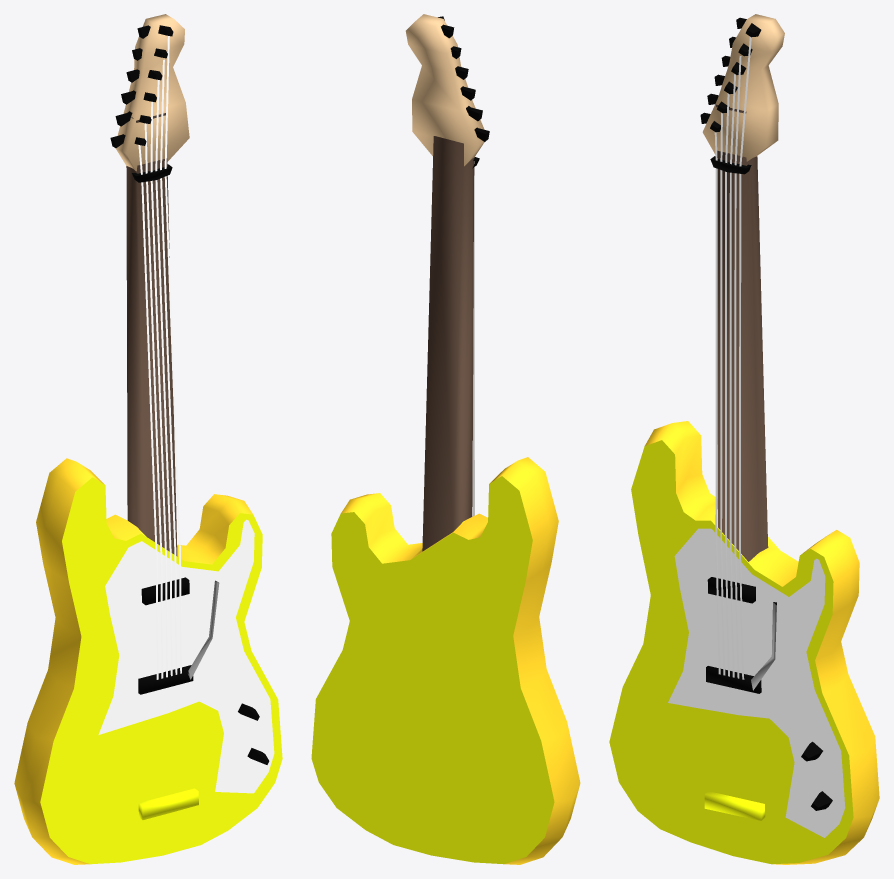
File: GuitarElectricYellow.glb
3 views of the same model, side by side, from view 1: azimuth 30°, elevation 25°; view 2: azimuth 150°, elevation 25°; view 3: azimuth 330°, elevation 25° (orthographic).
Parts seen in each view (by area): view 1: GuitarElectricYellow; view 2: GuitarElectricYellow; view 3: GuitarElectricYellow.
Part boxes in pixels (x1,y1,x2,y2): GuitarElectricYellow: (14, 14, 282, 864); GuitarElectricYellow: (311, 14, 580, 864); GuitarElectricYellow: (609, 14, 879, 864).
Size of the model in its own units: 0.4159 by 1.31 by 0.1052.
1 material, 1 textured.
